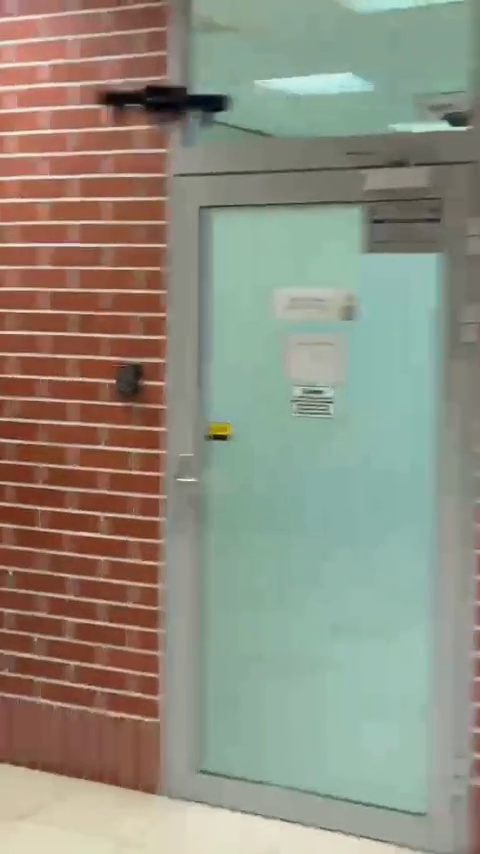drone: (99, 81, 237, 129)
